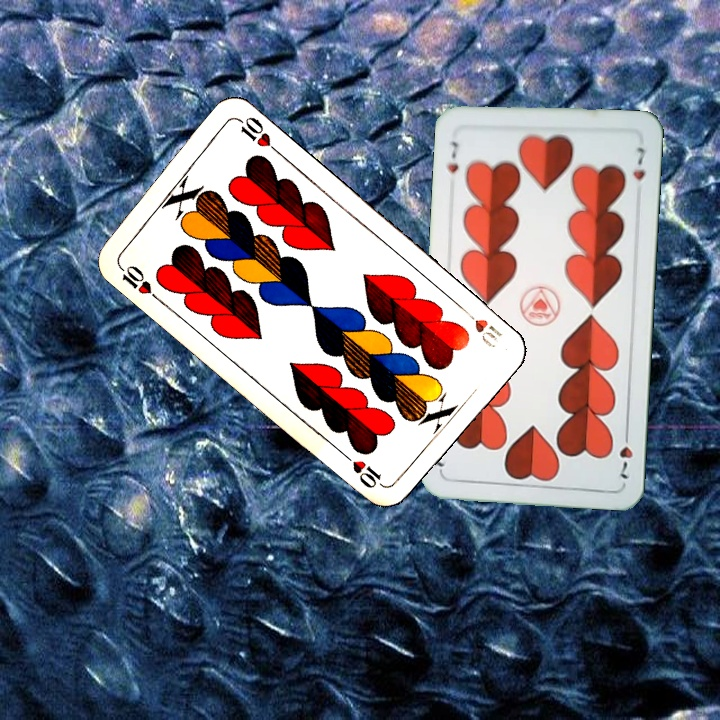H10: (457, 303, 506, 351), (114, 260, 162, 304)
H7: (616, 425, 636, 481), (443, 137, 461, 176)
